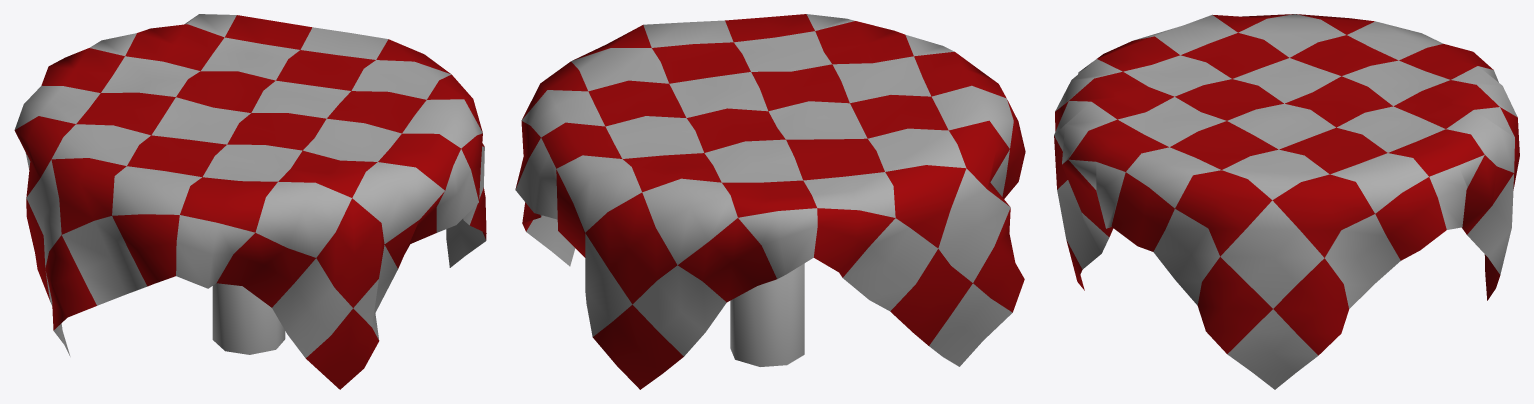
Rendered from masa.fbx.
3 views of the same model, side by side, from view 1: azimuth 30°, elevation 25°; view 2: azimuth 150°, elevation 25°; view 3: azimuth 270°, elevation 25° (orthographic). The views are drawn at different scales.
Visible parts, largest first — view 1: masa.002; view 2: masa.002; view 3: masa.002.
Part boxes in pixels (x1,y1,x2,y2): masa.002: (14,14,486,389); masa.002: (515,14,1025,389); masa.002: (1054,14,1519,389).
Bounding box in the file's own units: 228 × 121 × 219.
